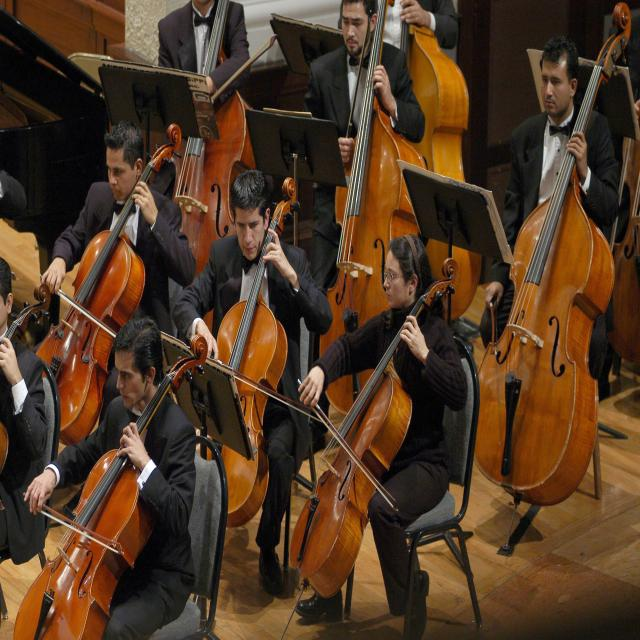cello: (10, 338, 210, 638), (286, 255, 462, 594), (25, 123, 187, 447), (212, 176, 300, 534)
